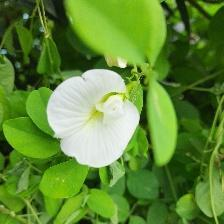shankupushpam: (44, 66, 144, 172)
